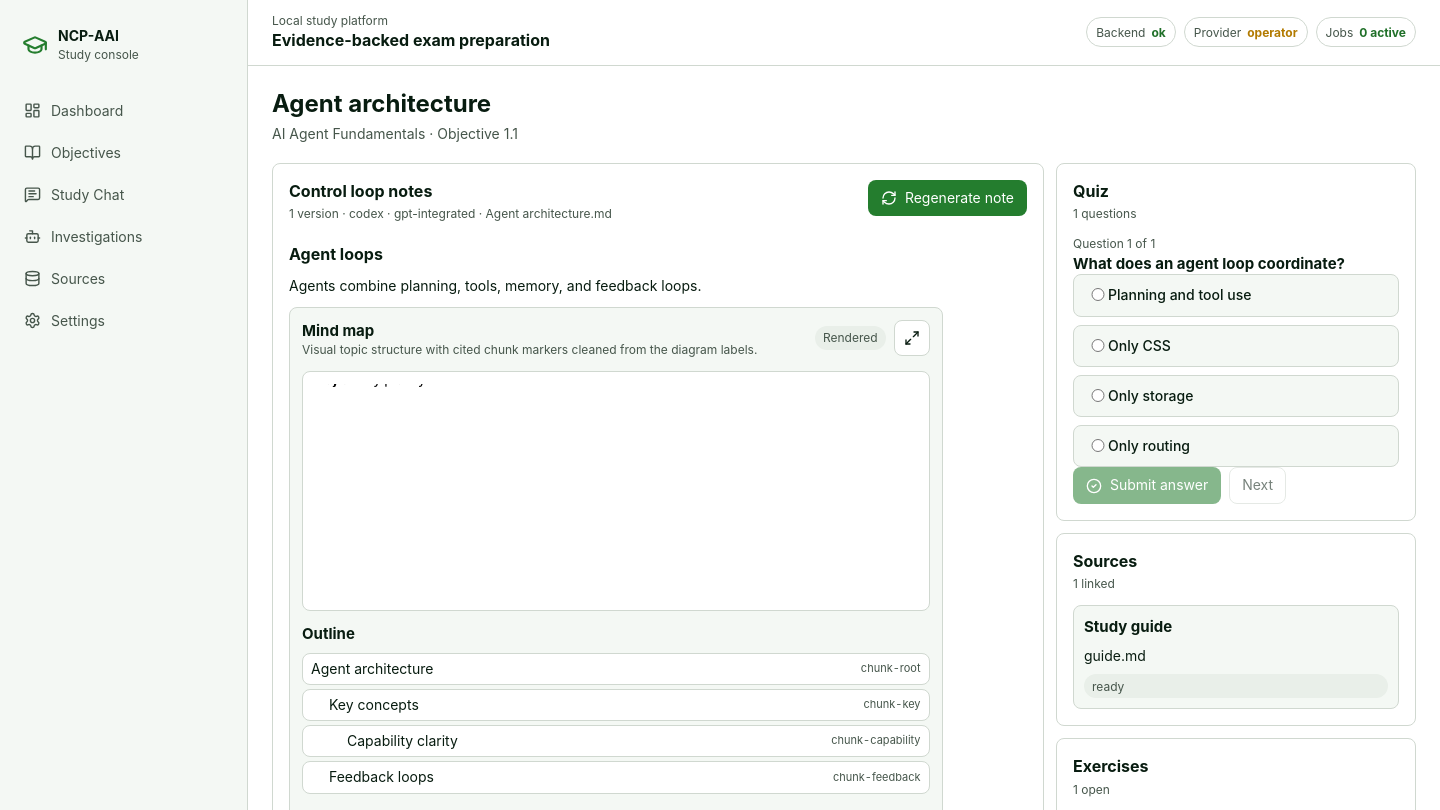
Test: NCP-AAI frontend › opens the topic mind map in a fullscreen view
Click the button named "expand mind map": [912, 338] box [894,320,930,356]
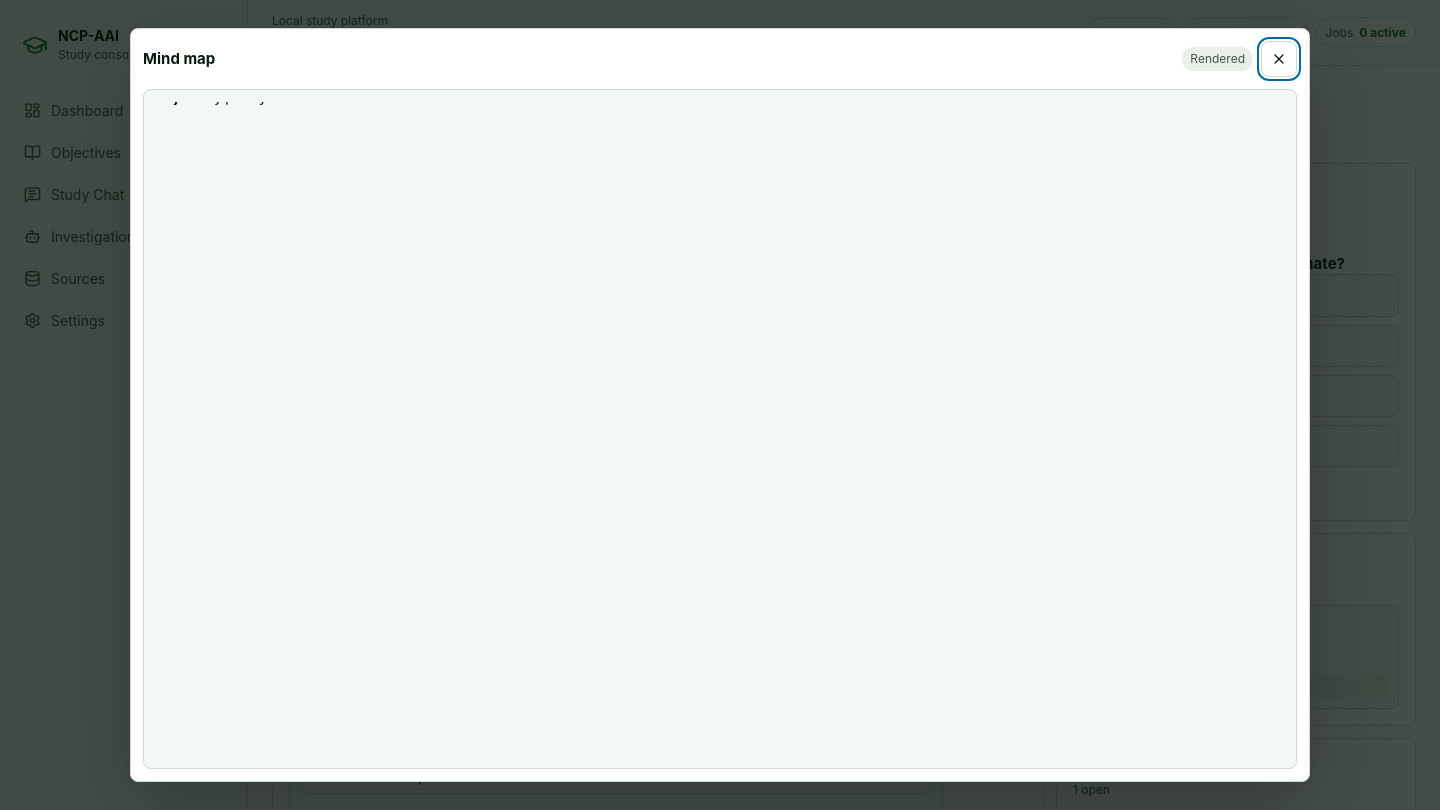
Expected: the dialog named "expanded mind map" is shown
